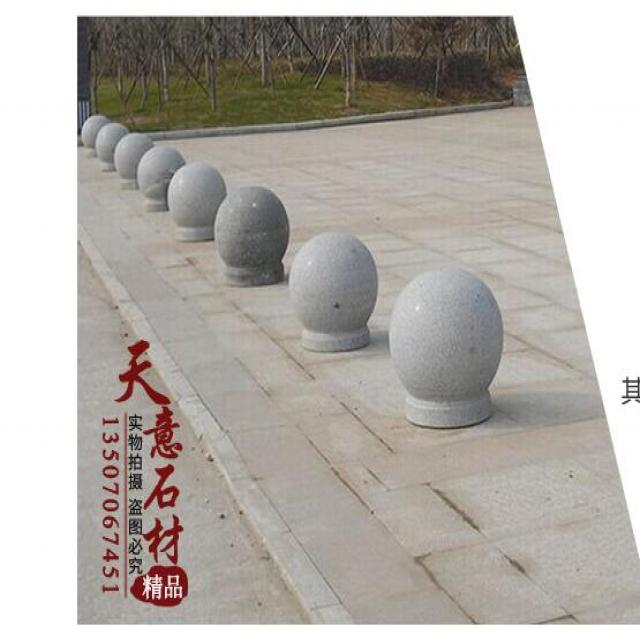spherical_roadblock: (391, 267, 502, 423), (291, 229, 376, 354), (212, 183, 287, 285), (167, 160, 223, 240), (135, 142, 184, 214), (113, 131, 151, 190), (97, 121, 128, 170)
